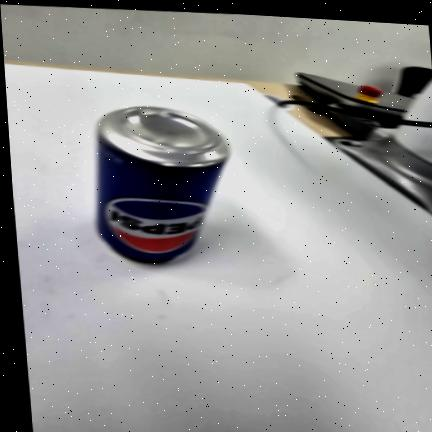can_pepsi: (96, 106, 229, 262)
